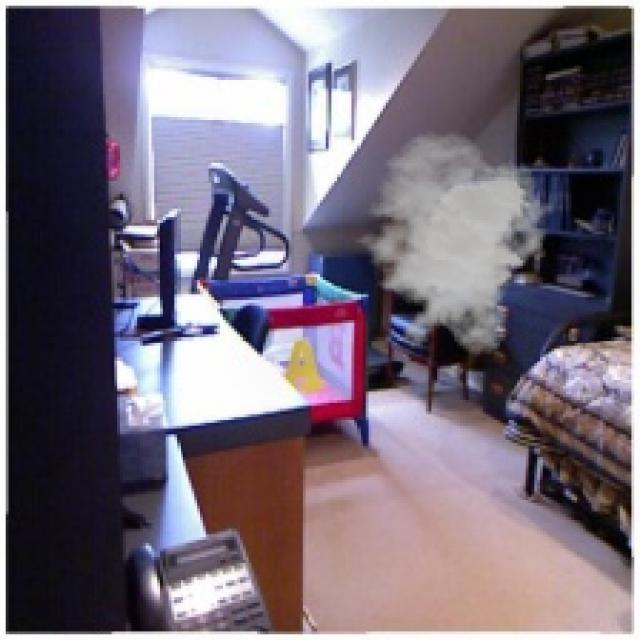Smoke: (346, 132, 554, 358)
